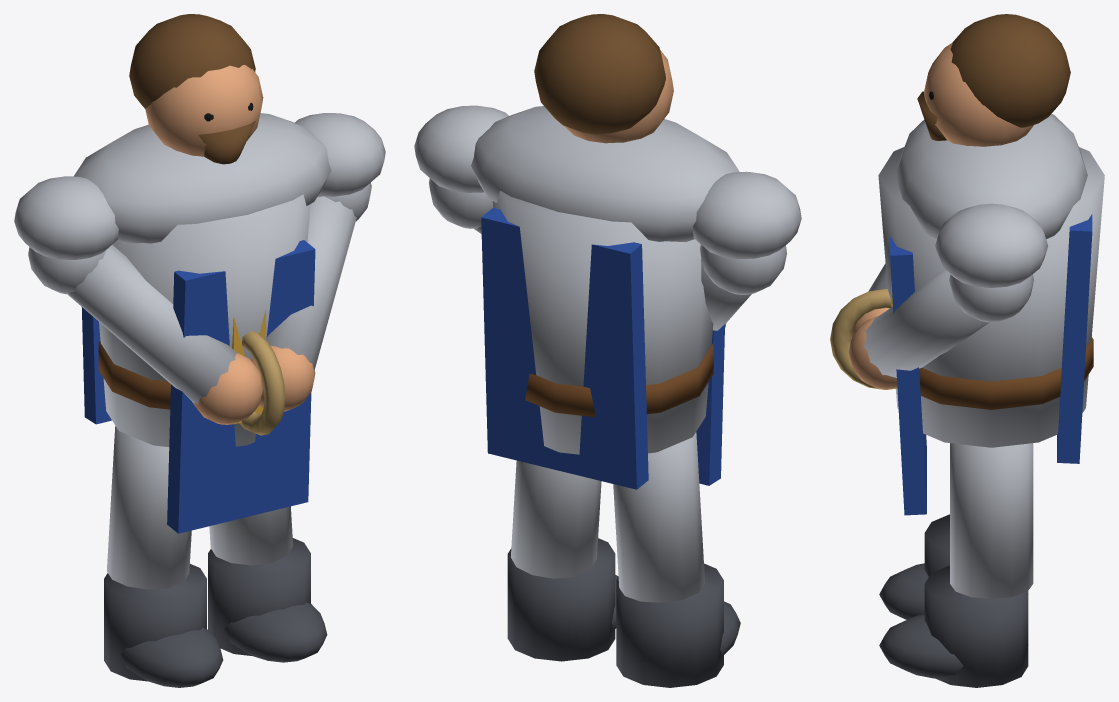
File: sir_ragnar.glb
3 renders of one model, left to right at view 1: azimuth 30°, elevation 25°; view 2: azimuth 150°, elevation 25°; view 3: azimuth 270°, elevation 25°, orthographic. The views are drawn at different scales.
Parts seen in each view (by area): view 1: sir_ragnar; view 2: sir_ragnar; view 3: sir_ragnar.
Part boxes in pixels (x1,y1,x2,y2): sir_ragnar: (14, 14, 385, 687); sir_ragnar: (414, 14, 801, 687); sir_ragnar: (830, 14, 1104, 687).
Bounding box in the file's own units: 0.55 × 0.9161 × 0.364.
